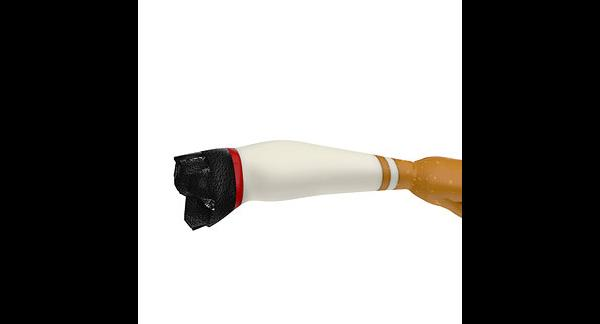Cigarette: (174, 130, 462, 231)
